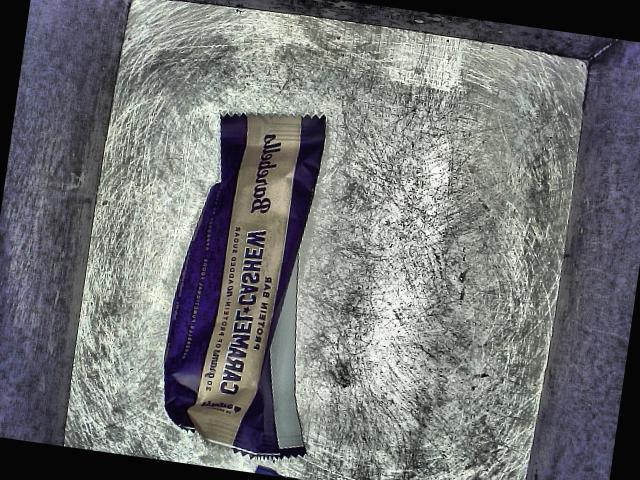Plastic: (141, 80, 365, 480)
